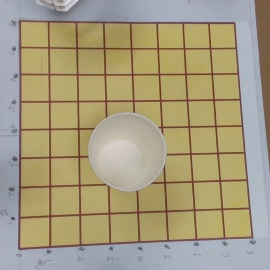cup: (86, 113, 167, 193)
